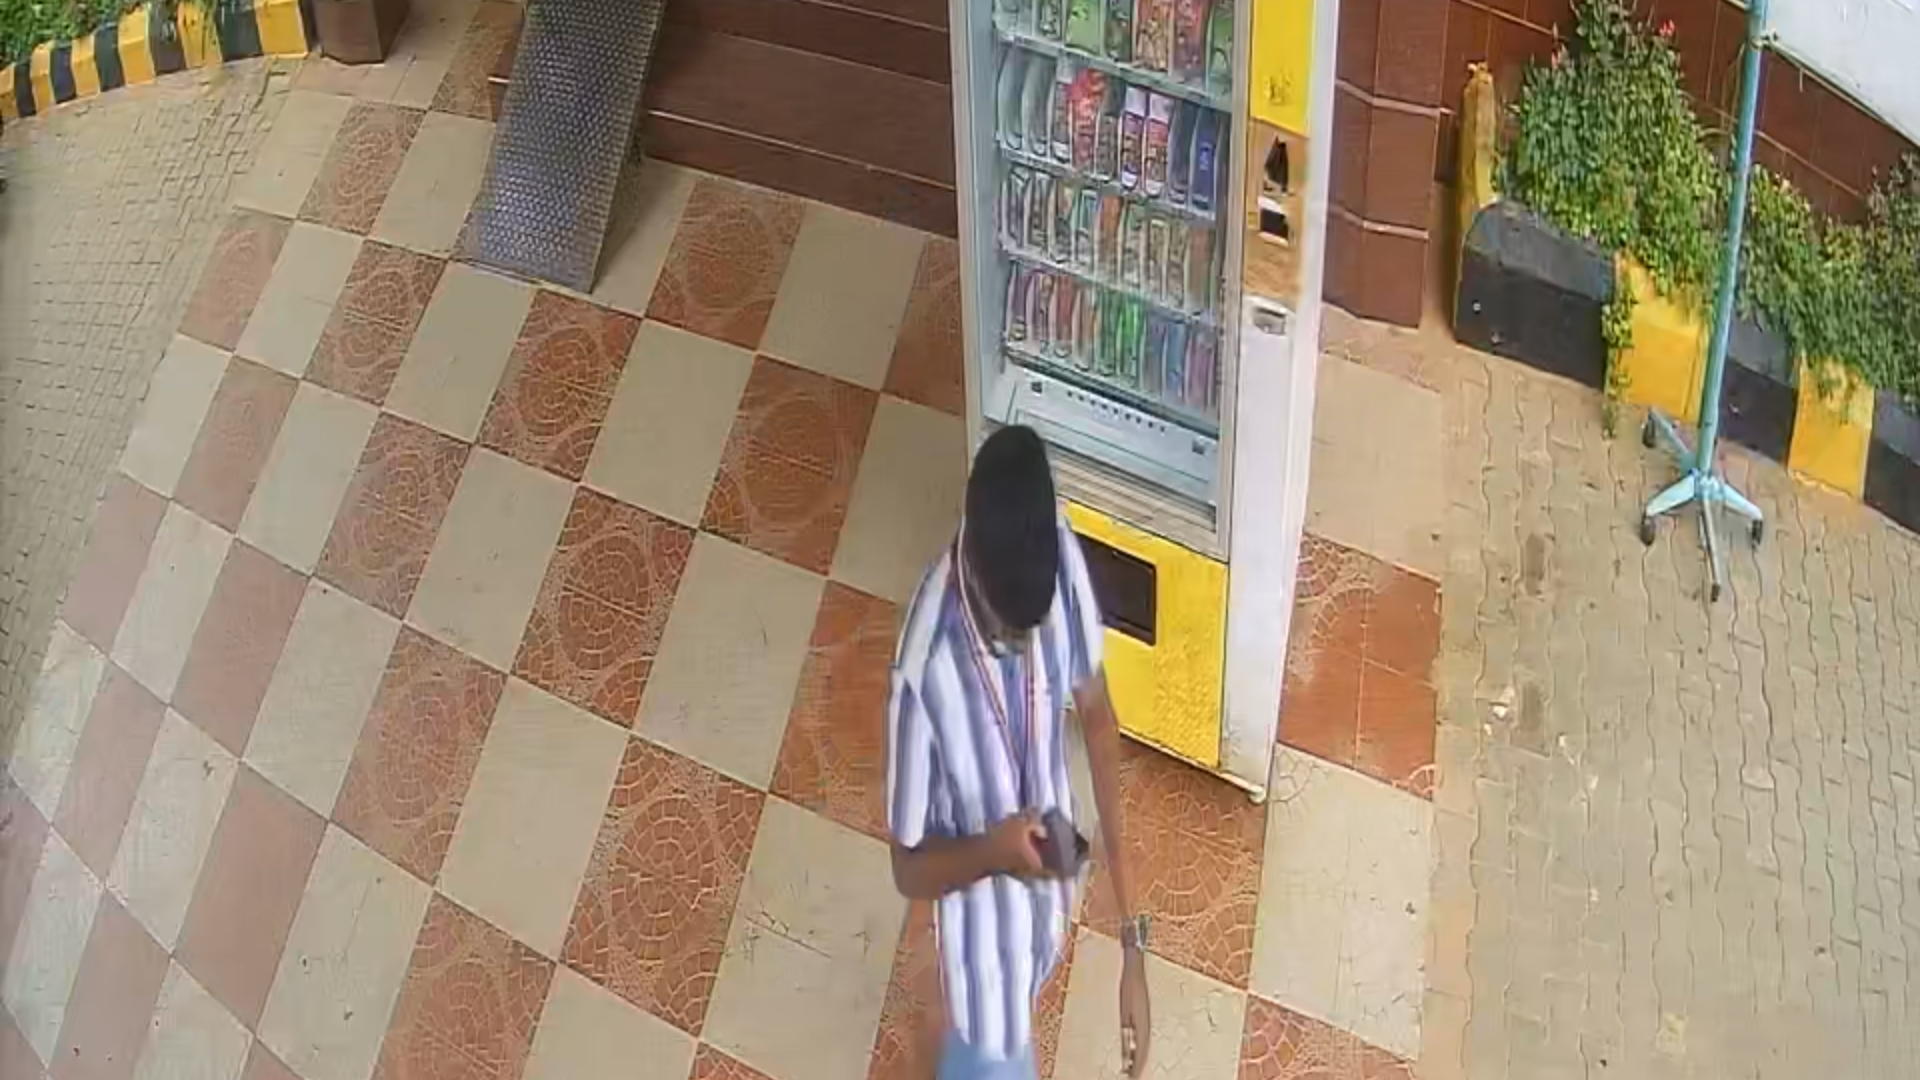not intruder: (913, 421, 1166, 1063)
